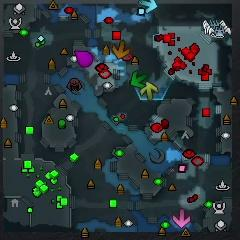p3: (74, 51, 95, 67)
x1: (173, 208, 191, 228)
x2: (140, 82, 159, 101)
x3: (138, 0, 158, 14)
x4: (130, 71, 147, 89)
x5: (112, 39, 130, 58)
